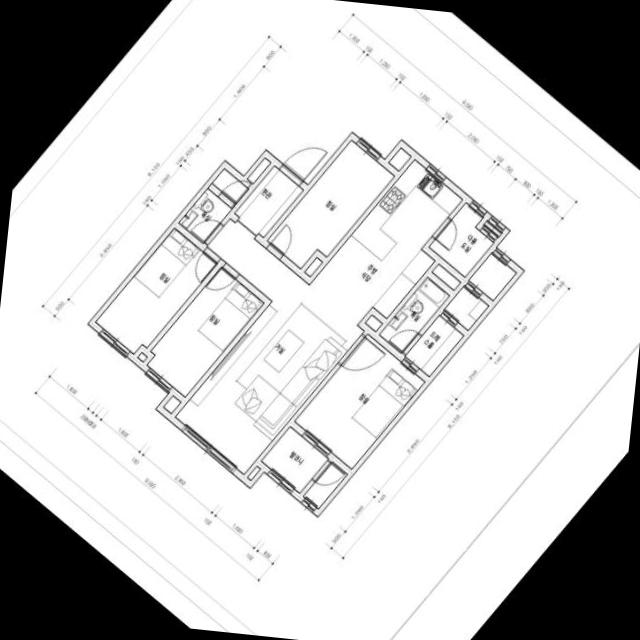background: (0, 0, 640, 640)
space_balconi: (260, 426, 328, 493), (468, 252, 515, 301)
space_bedroom: (294, 334, 424, 469), (266, 140, 394, 269), (95, 228, 217, 354), (146, 267, 264, 397)
space_dressroom: (404, 315, 463, 376), (443, 285, 488, 330)
space_front: (234, 165, 303, 238)
space_kitchen: (309, 160, 461, 325)
space_living_room: (174, 219, 363, 474)
space_multipurpose_space: (428, 203, 493, 277)
space_other: (303, 462, 346, 509), (431, 264, 460, 290), (247, 158, 270, 183), (388, 148, 410, 171), (304, 257, 321, 276), (483, 220, 501, 237), (163, 396, 180, 413), (365, 315, 381, 331), (247, 466, 260, 480), (137, 352, 146, 362)
space_toilet: (379, 277, 449, 353), (178, 169, 248, 243)
